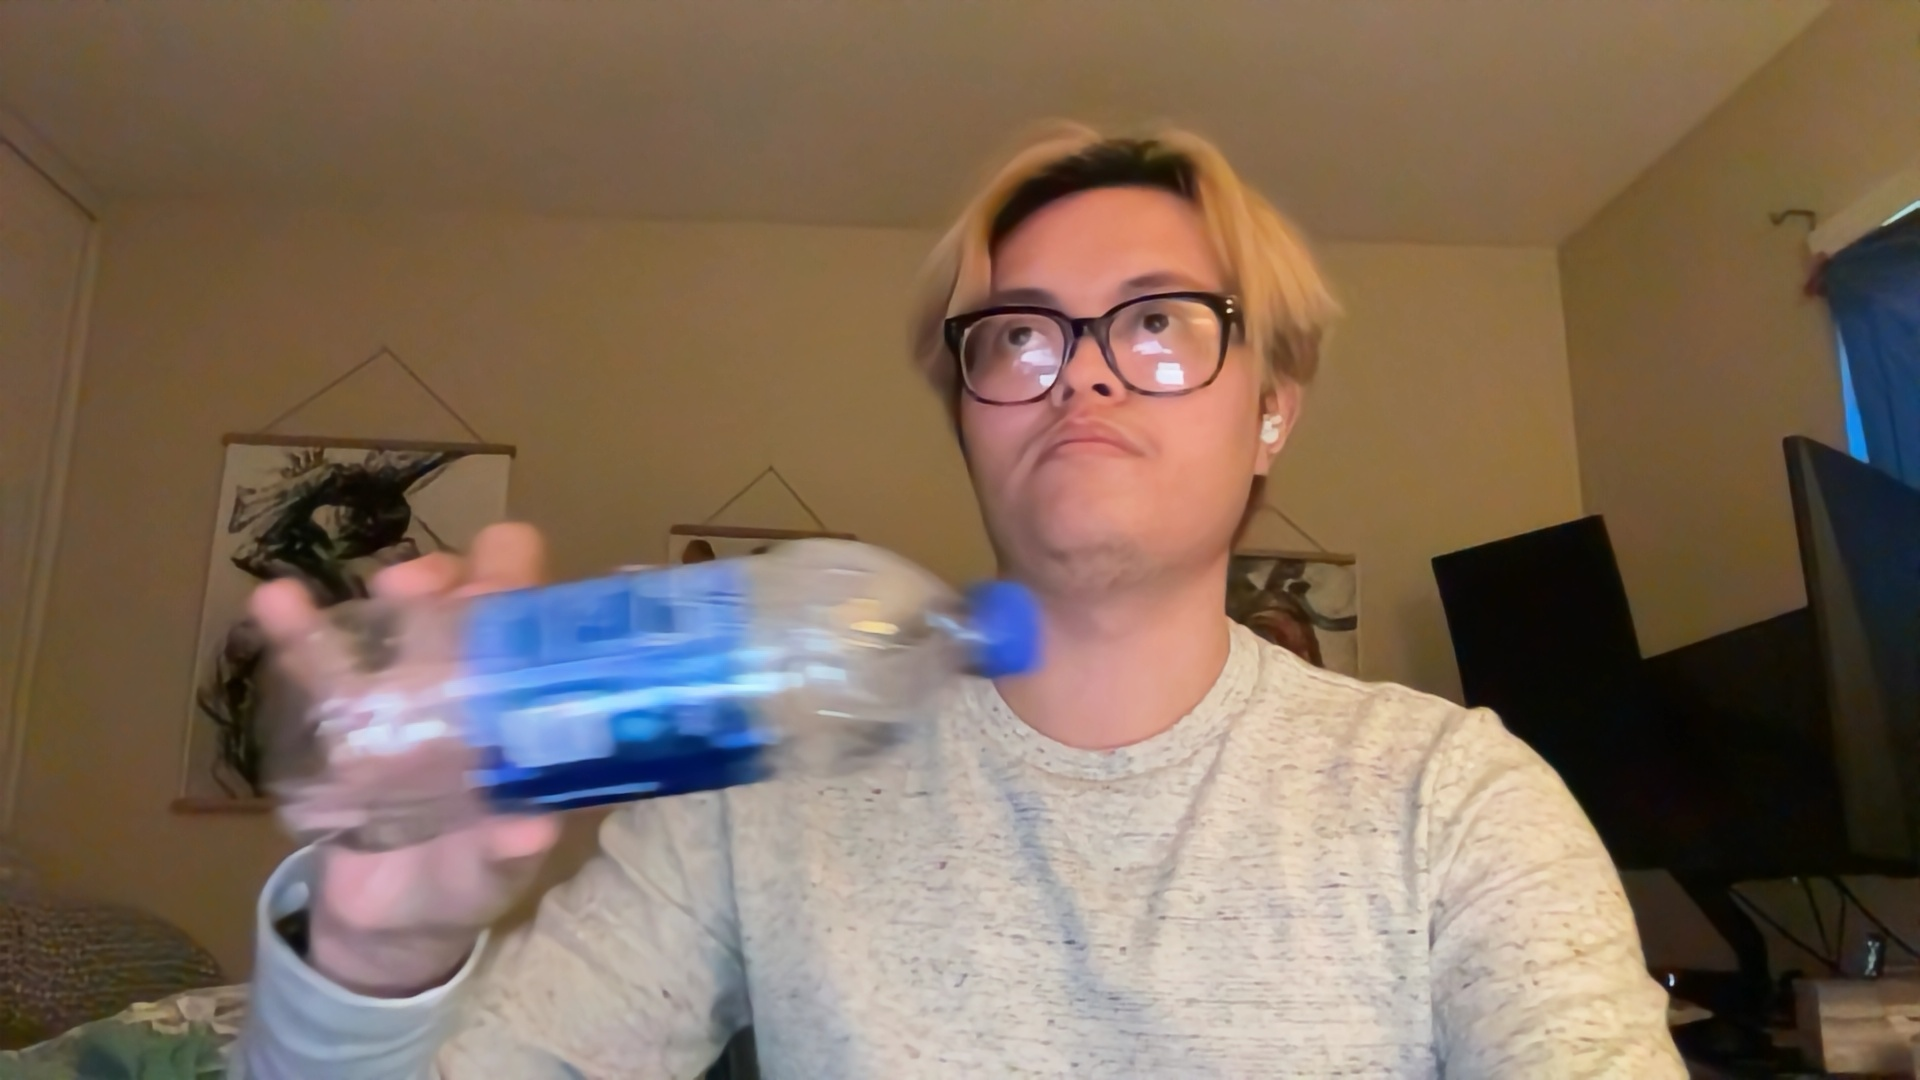bottle: (261, 524, 1040, 837)
